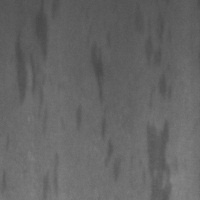inclusion: (137, 4, 182, 199), (88, 38, 125, 183), (13, 1, 51, 125), (40, 150, 62, 199), (72, 100, 86, 131)
